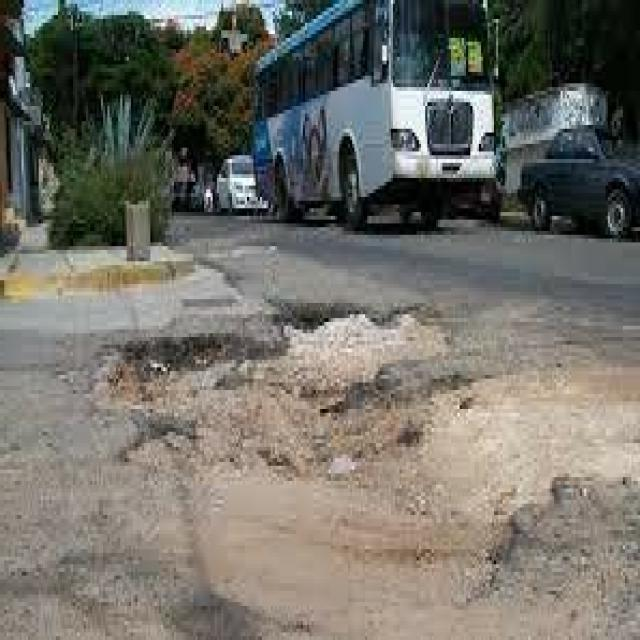pothole: (37, 262, 613, 580)
